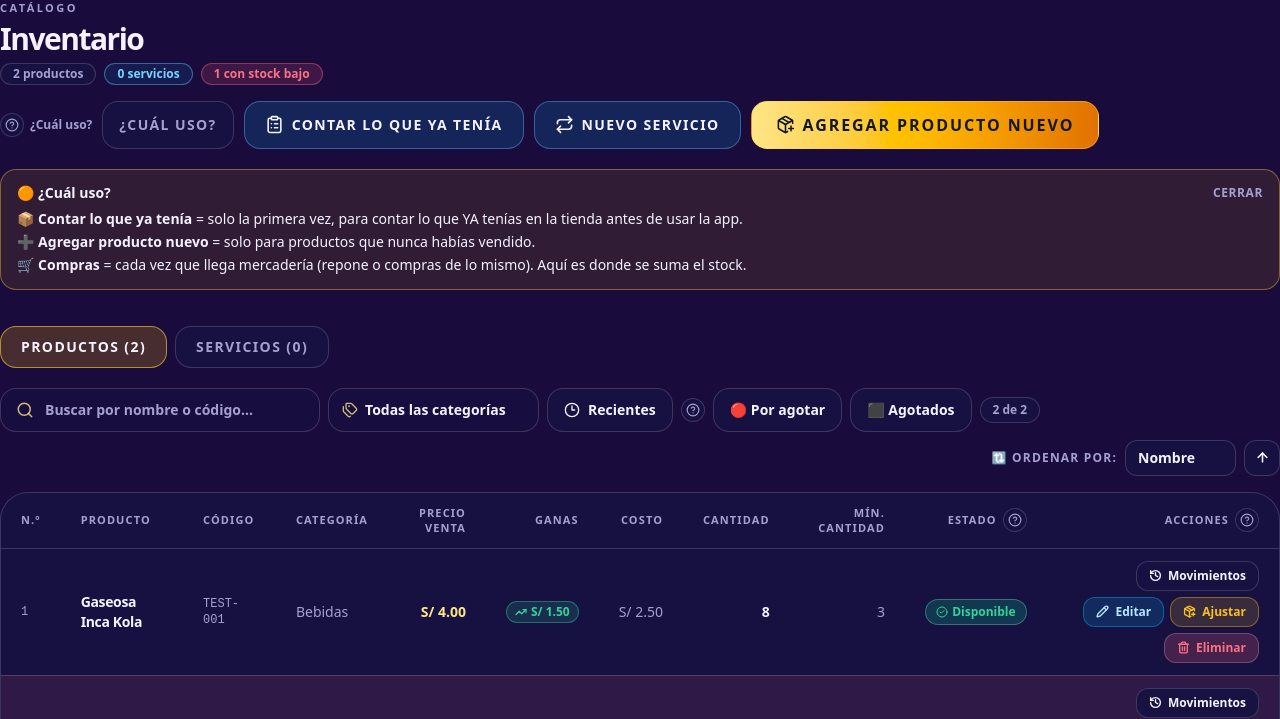
InventoryPage › filtra las categorías existentes al escribir y permite elegirlas
Expected: the text "Gaseosa Inca Kola" is shown, [61, 548, 183, 675]
Click the button "Agregar producto nuevo" at (925, 124), box [750, 100, 1099, 148]
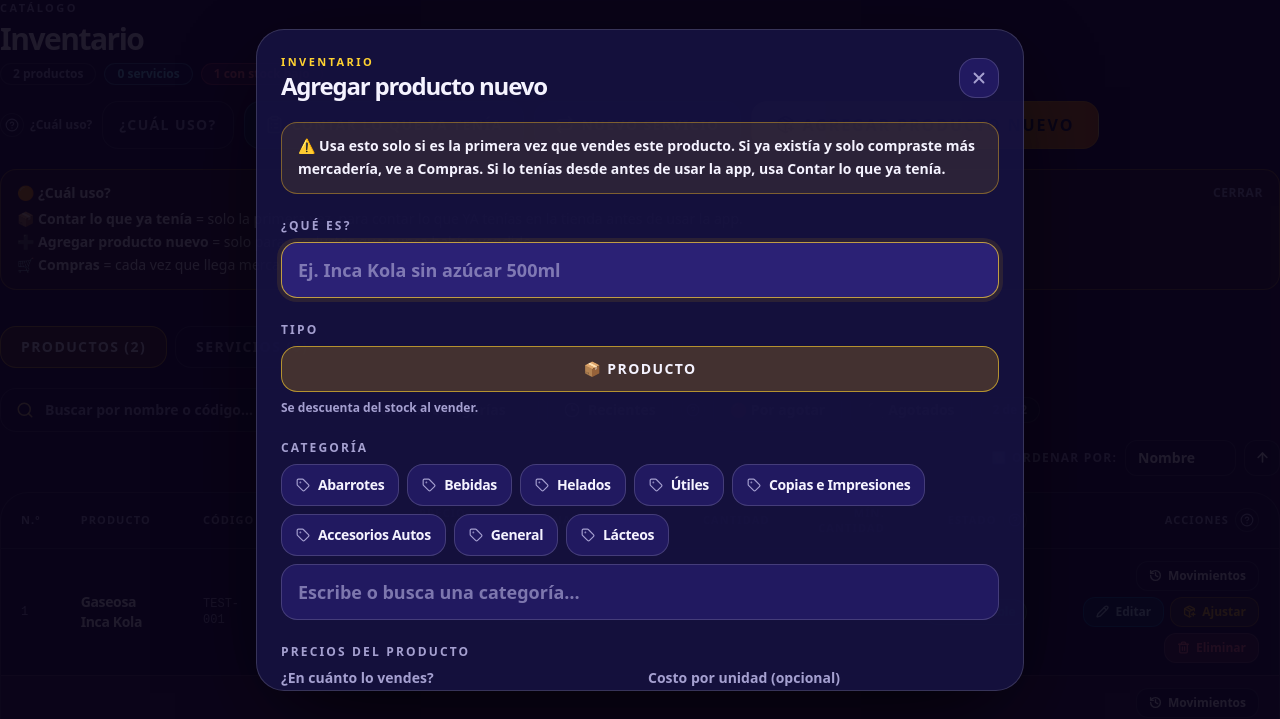
Type "Lact" into the field with placeholder "Escribe o busca una categoría…" at (640, 592), box [281, 564, 999, 620]
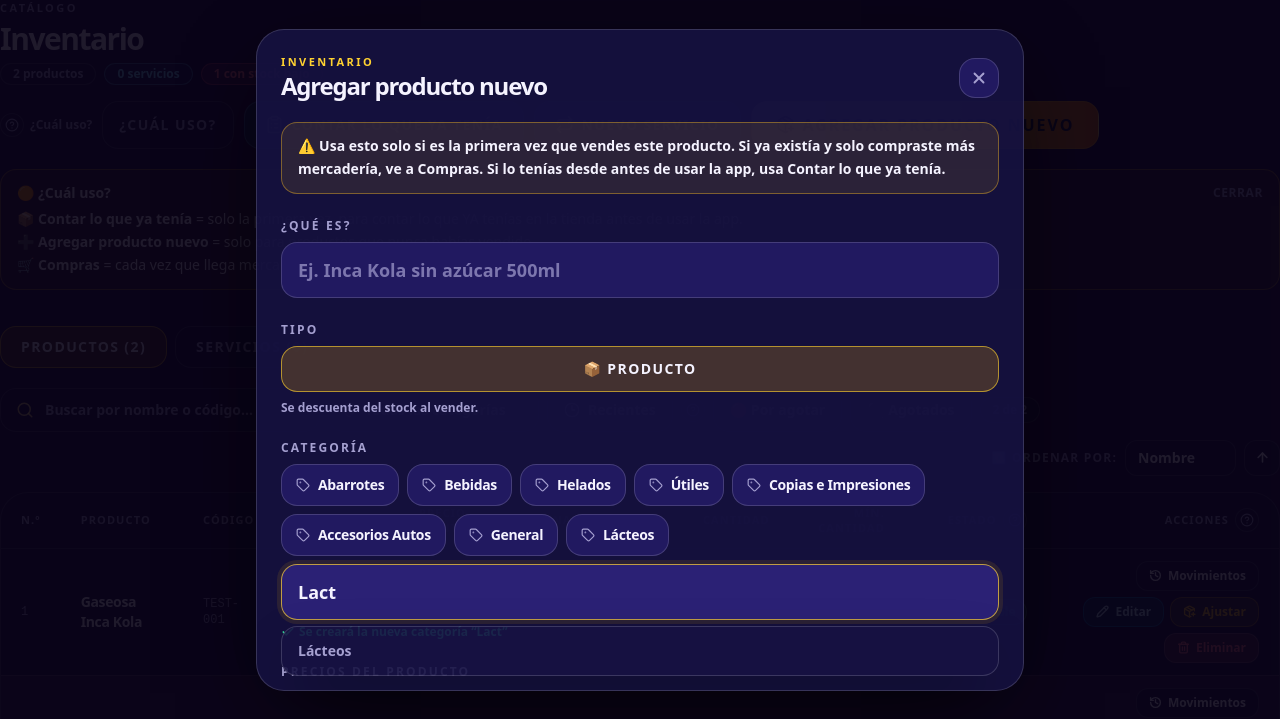
Click the button "Lácteos" next to "Lact" at (325, 650), box [282, 633, 998, 669]
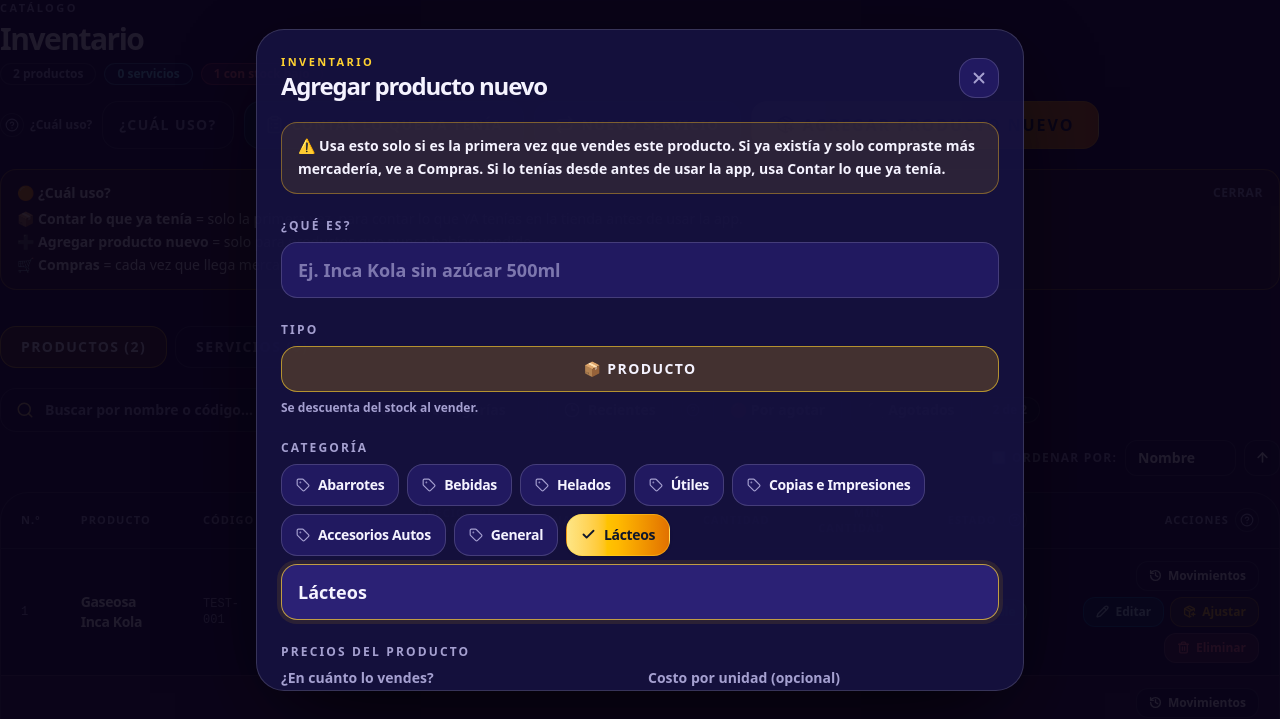
Now the field with placeholder "Escribe o busca una categoría…" holds "Lácteos", box [281, 564, 999, 620]
Now the number of buttons "Lácteos" is 1, box [566, 514, 670, 556]
